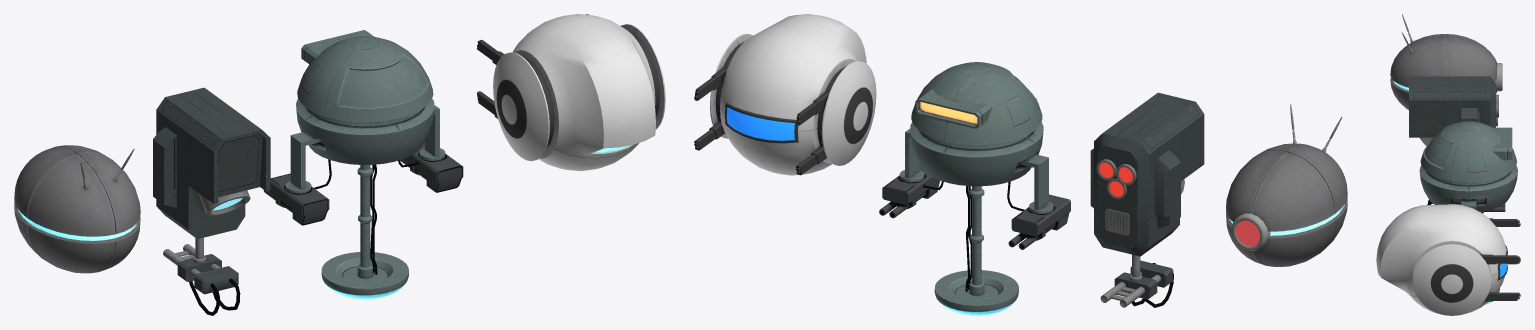
Rendered from Unity2Skfb.gltf.
The picture shows the model from 3 angles, left to right: view 1: azimuth 30°, elevation 25°; view 2: azimuth 150°, elevation 25°; view 3: azimuth 270°, elevation 25°; orthographic projection. The views are drawn at different scales.
Parts seen in each view (by area): view 1: Robot_Collector, Robot_Guardian, Robot_Invader, Robot_Scout; view 2: Robot_Collector, Robot_Guardian, Robot_Invader, Robot_Scout; view 3: Robot_Guardian, Robot_Collector, Robot_Invader, Robot_Scout.
Boxes of the visible parts, x1,y1,x2,y2 form: Robot_Collector: (263, 30, 463, 299); Robot_Guardian: (477, 14, 665, 171); Robot_Invader: (153, 87, 270, 315); Robot_Scout: (14, 145, 140, 273); Robot_Collector: (879, 62, 1070, 315); Robot_Guardian: (694, 14, 876, 175); Robot_Invader: (1090, 92, 1204, 307); Robot_Scout: (1226, 104, 1347, 266); Robot_Guardian: (1376, 204, 1520, 315); Robot_Collector: (1419, 121, 1517, 304); Robot_Invader: (1409, 76, 1498, 204); Robot_Scout: (1390, 14, 1502, 109).
Size of the model in its own units: 4 by 1.52 by 1.13.
Materials: 4 (4 with a texture image).
